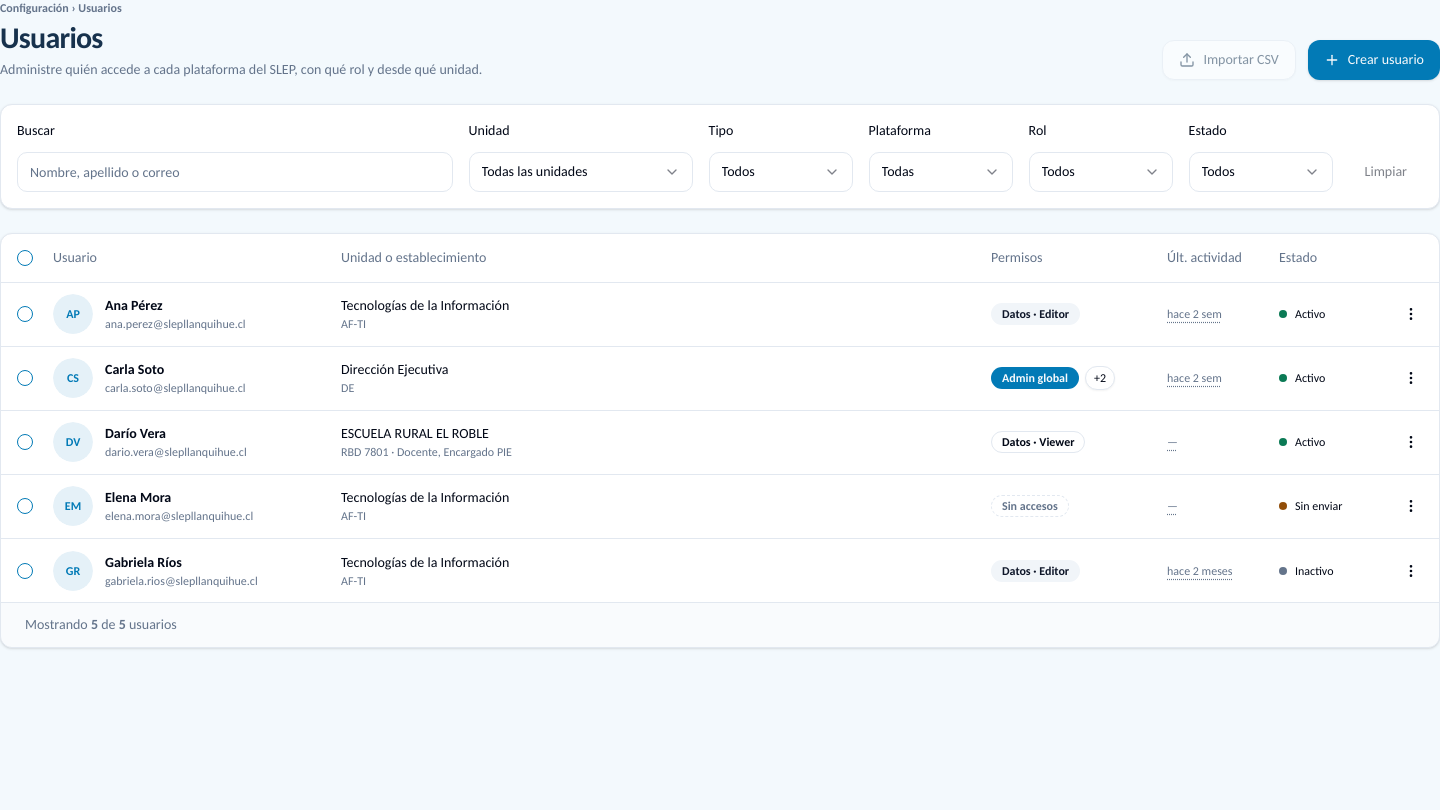
FE09: editar usuario › FE09-I: precarga los datos del usuario
Expected: the text "Ana Pérez" is shown, 105,297 -> 163,314
Click the button named "Acciones de Ana Pérez".
click(1411, 314)  # box 1391,294 -> 1431,334
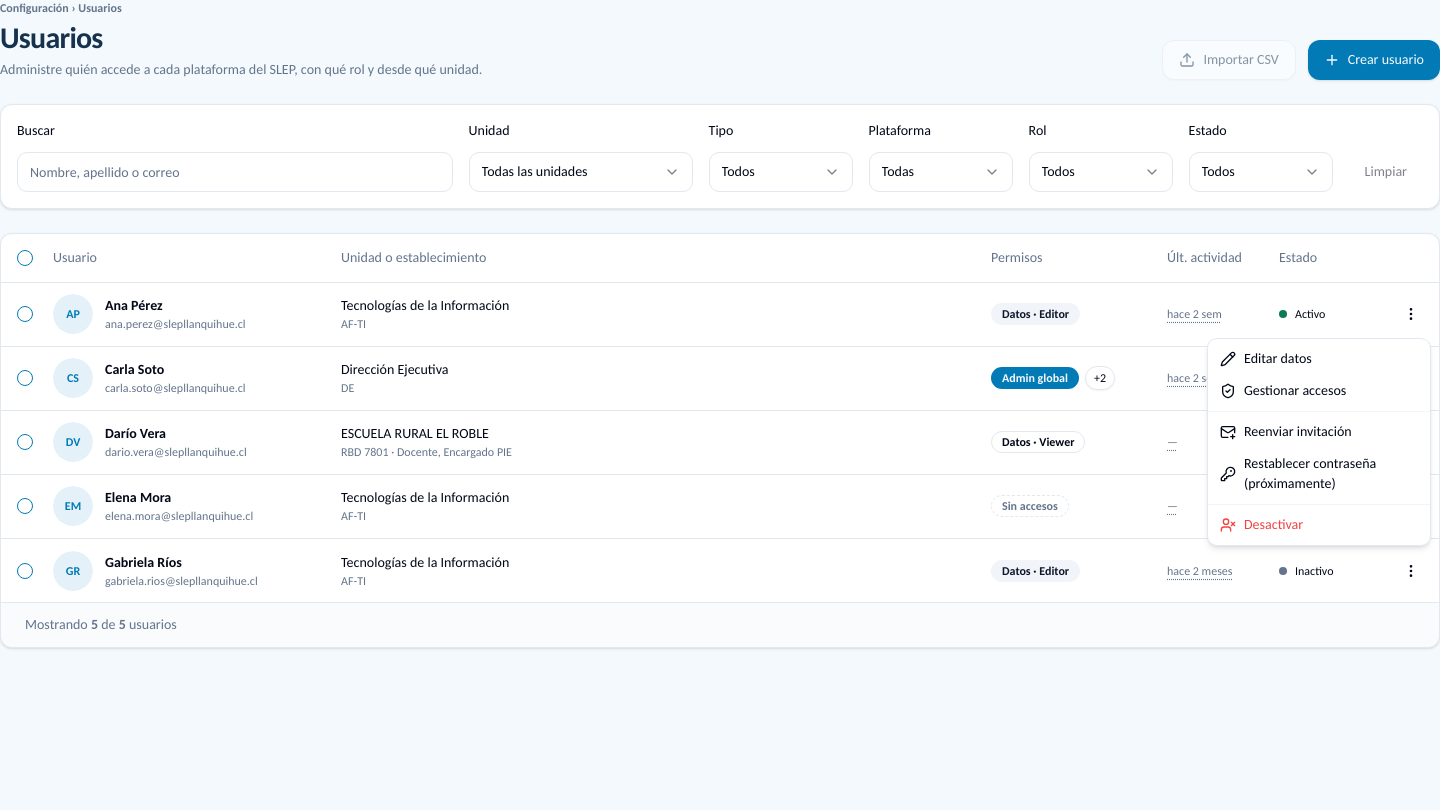
Click the menu item "Editar datos".
click(1266, 358)  # box 1220,350 -> 1312,367
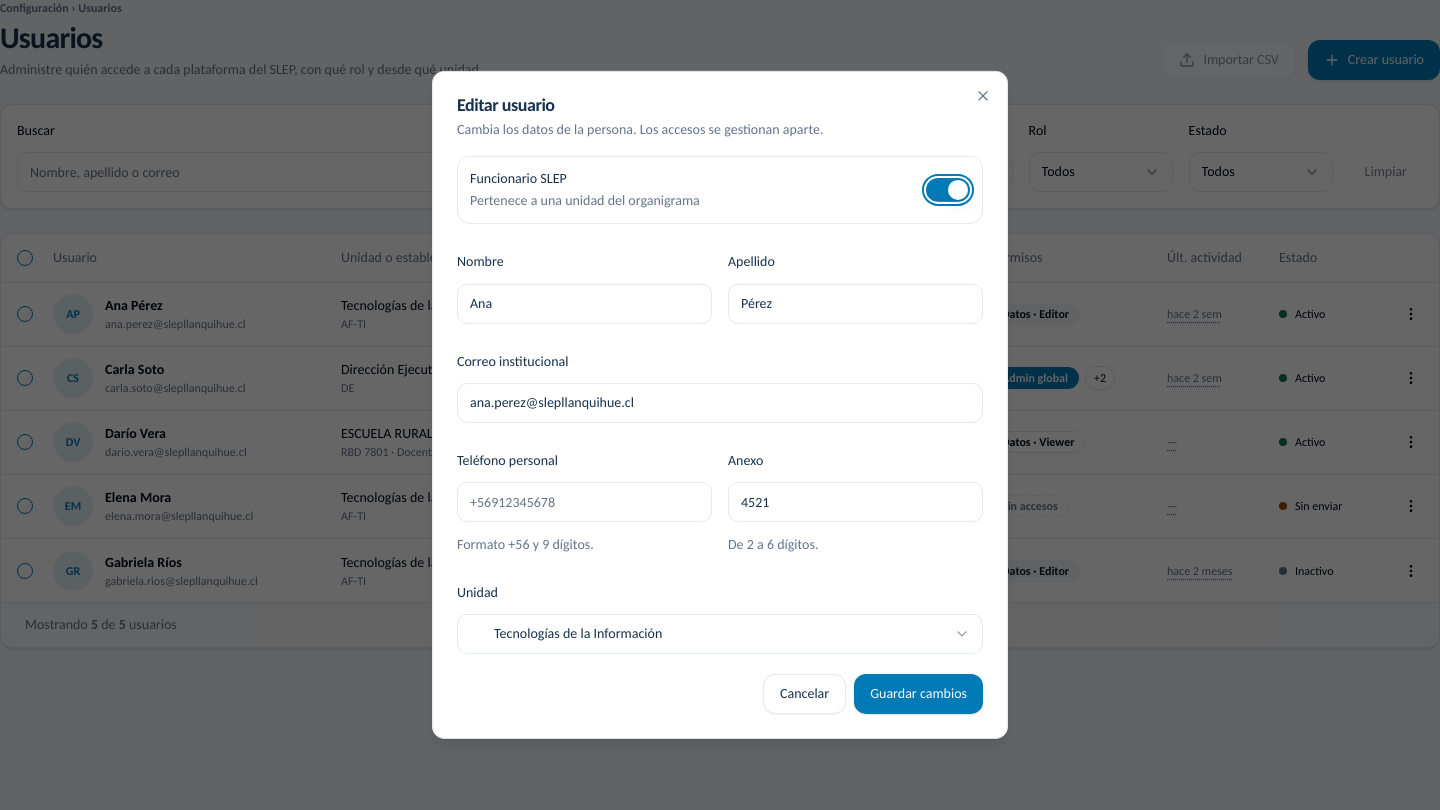
Expected: the field labelled "Nombre" holds "Ana", 457,283 -> 712,323
Expected: the field labelled "Correo institucional" holds "ana.perez@slepllanquihue.cl", 457,383 -> 983,423
Expected: the field labelled "Anexo" holds "4521", 728,482 -> 983,522
